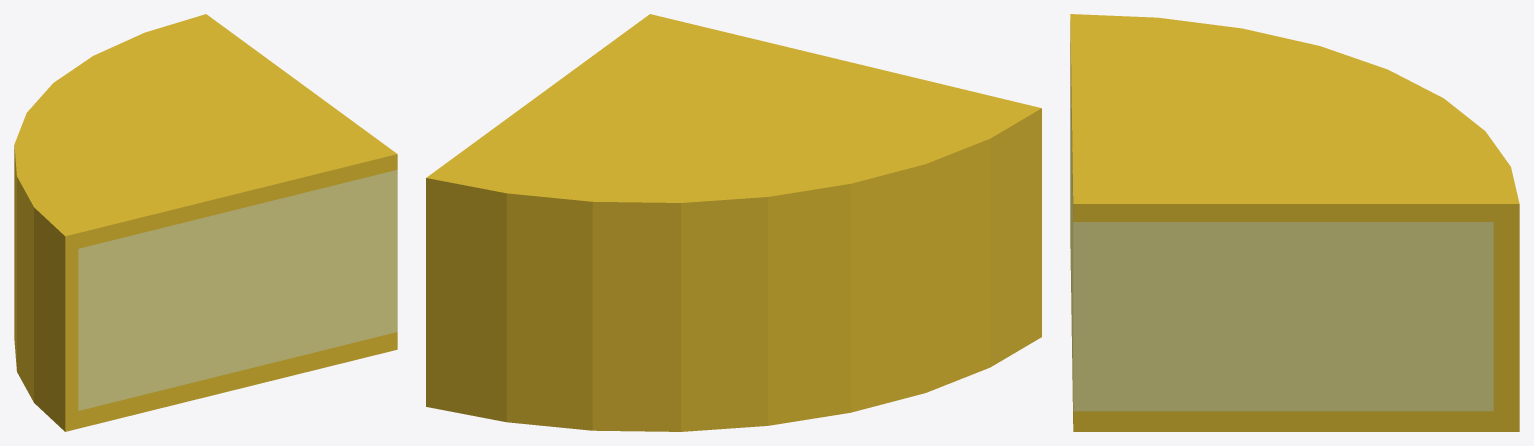
The model's file is cheeseWedge.fbx.
The picture shows the model from 3 angles, left to right: view 1: azimuth 30°, elevation 25°; view 2: azimuth 150°, elevation 25°; view 3: azimuth 270°, elevation 25°; orthographic projection. The views are drawn at different scales.
Visible parts, largest first — view 1: Cylinder; view 2: Cylinder; view 3: Cylinder.
Part boxes in pixels (left/top/right/bottom): Cylinder: left=14, top=14, right=397, bottom=431; Cylinder: left=426, top=14, right=1041, bottom=431; Cylinder: left=1070, top=14, right=1519, bottom=431.
Size of the model in its own units: 100 by 56.04 by 100.
